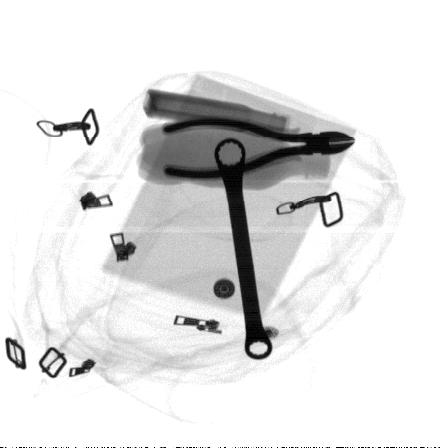Pliers: (159, 115, 360, 183)
Wrench: (213, 137, 274, 361)
